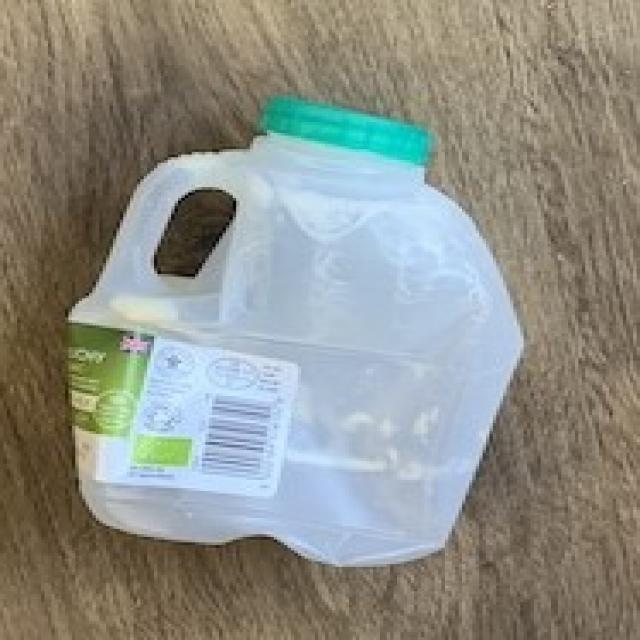HDPE Plastic: (64, 88, 529, 572)
